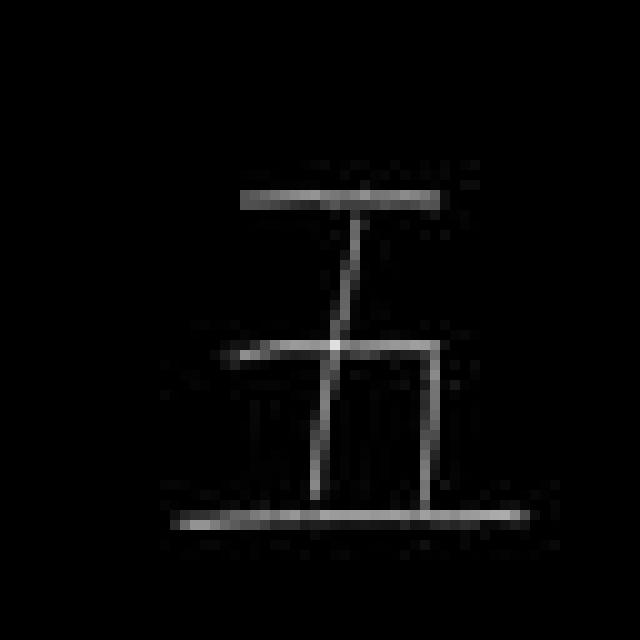5 -five-: (167, 171, 536, 542)
